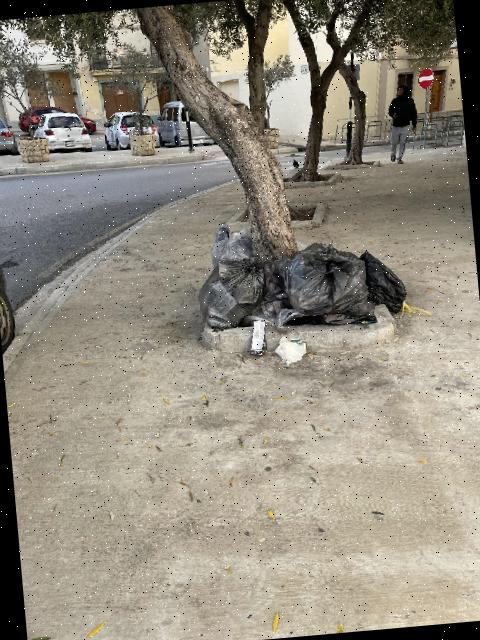Mixed -Black-: (359, 251, 406, 314)
Other: (274, 335, 306, 363), (250, 320, 265, 353)
Recyclable -Grey-: (278, 243, 378, 323), (198, 256, 264, 329), (249, 262, 291, 324), (210, 223, 257, 267)
